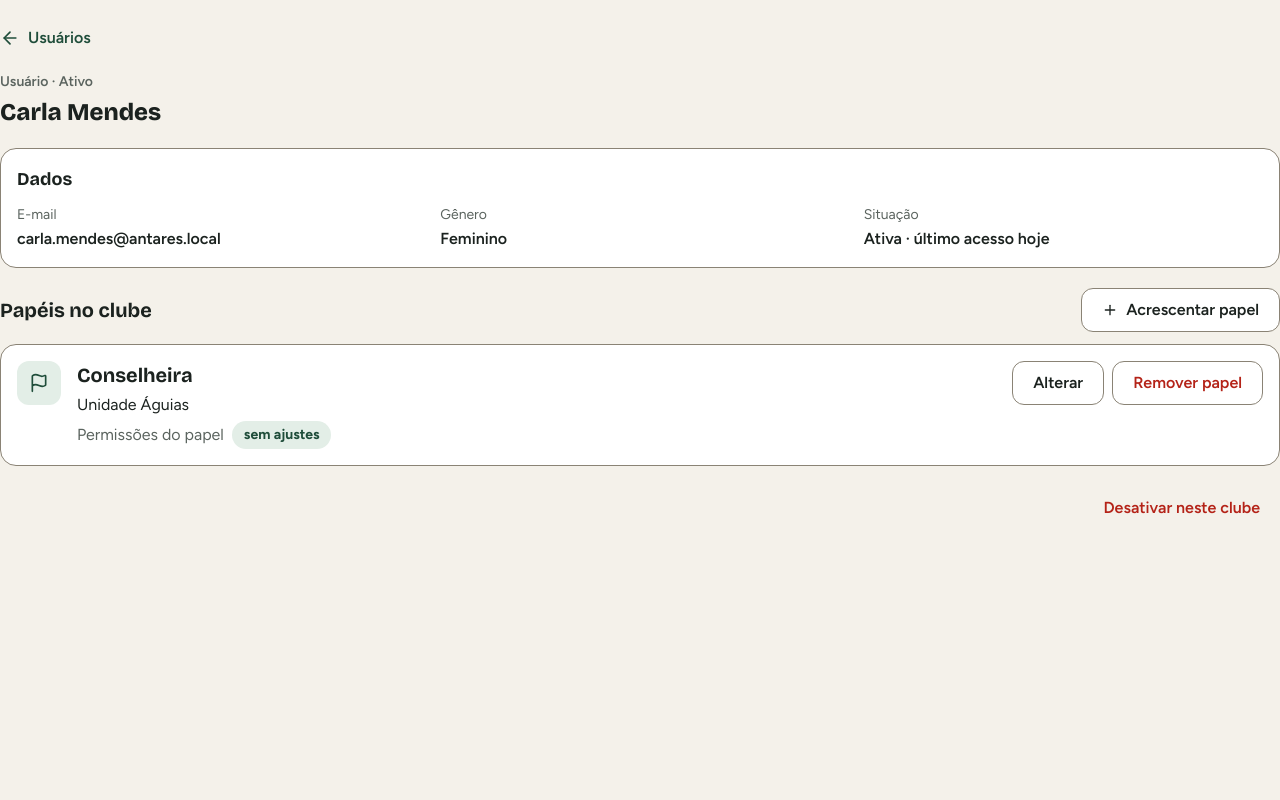
Test: ficha do usuário › "Desativar neste clube" fica no rodapé, depois dos cartões, e nomeia a pessoa
Click the button "Desativar neste clube" at (1182,508), box [1084, 486, 1279, 530]
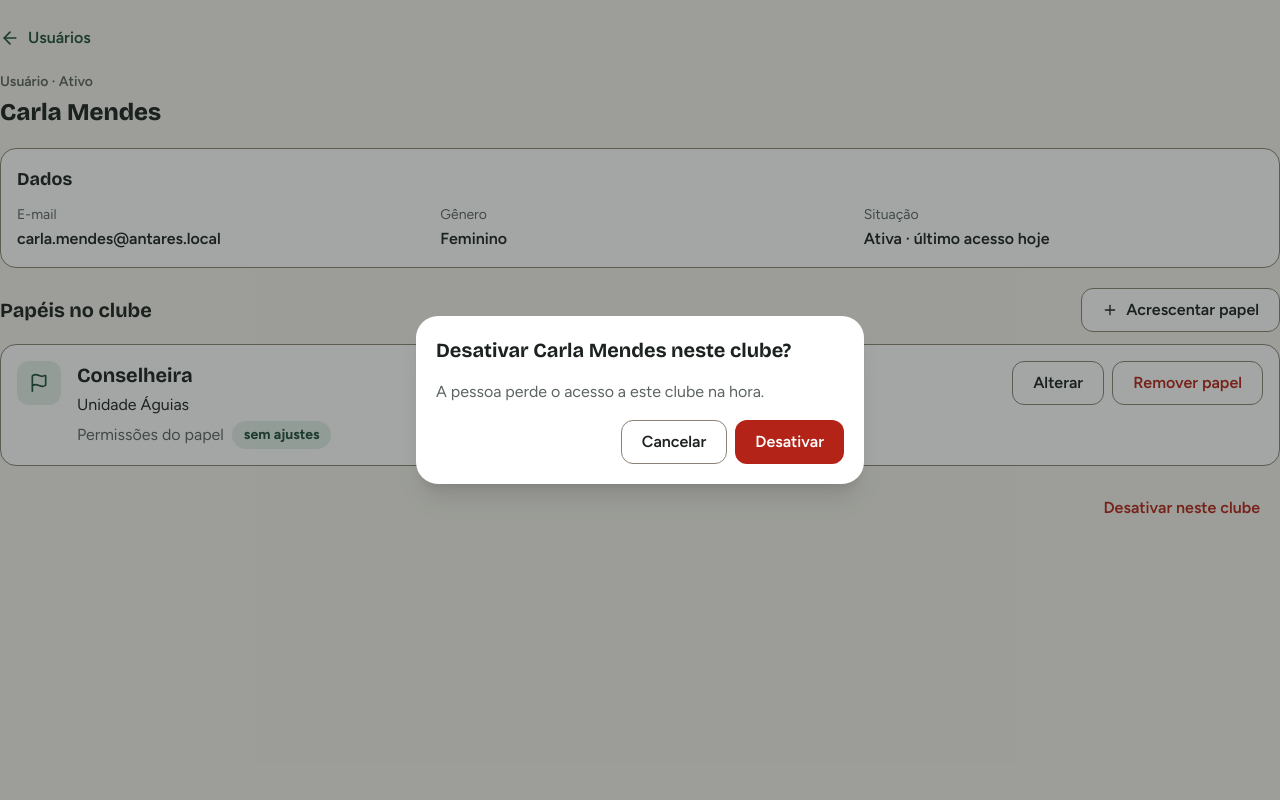
Check: the text "A pessoa perde o acesso a este clube na hora." is shown, box [436, 382, 764, 401]
